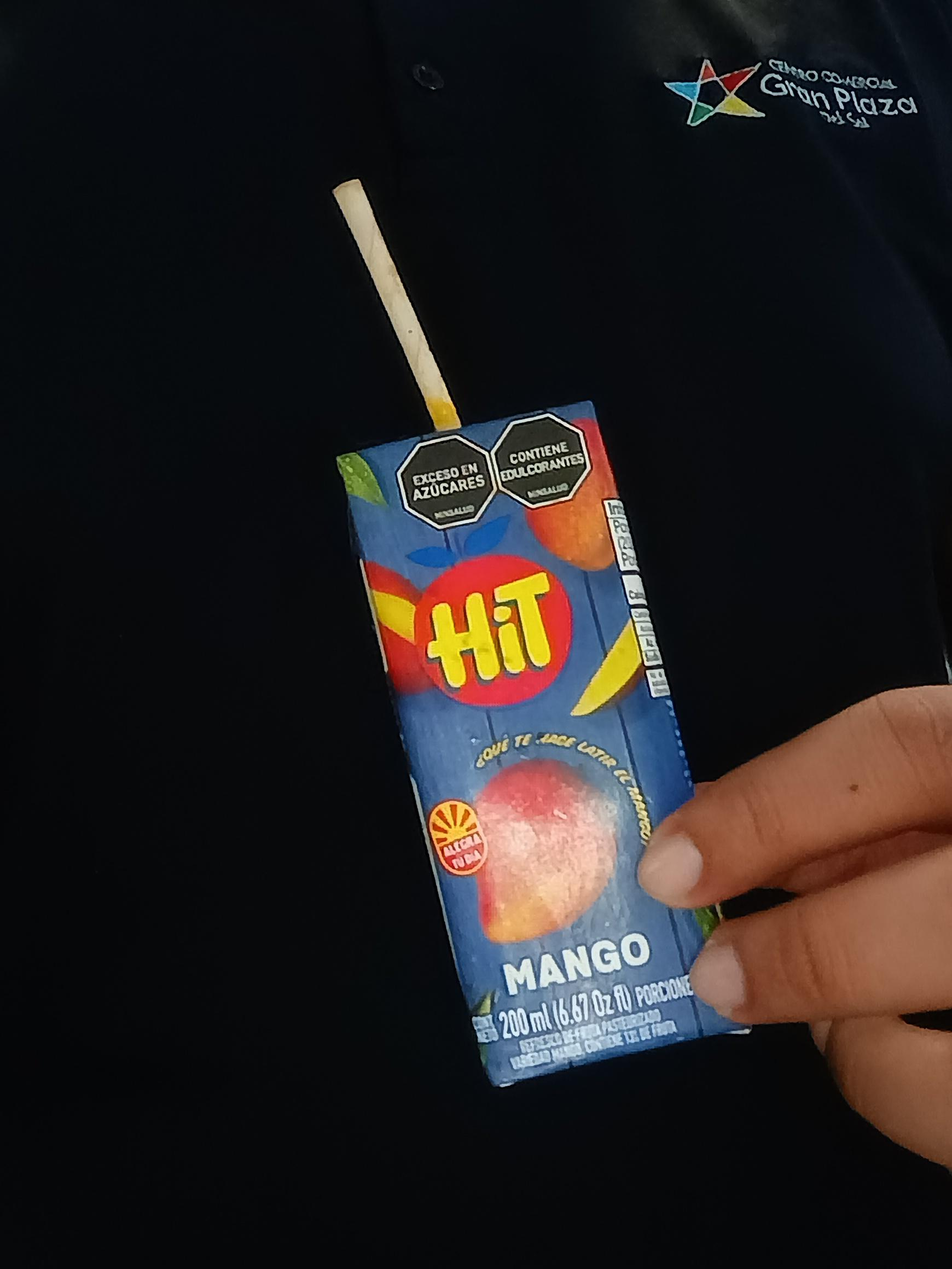Carton: (331, 400, 756, 1092)
